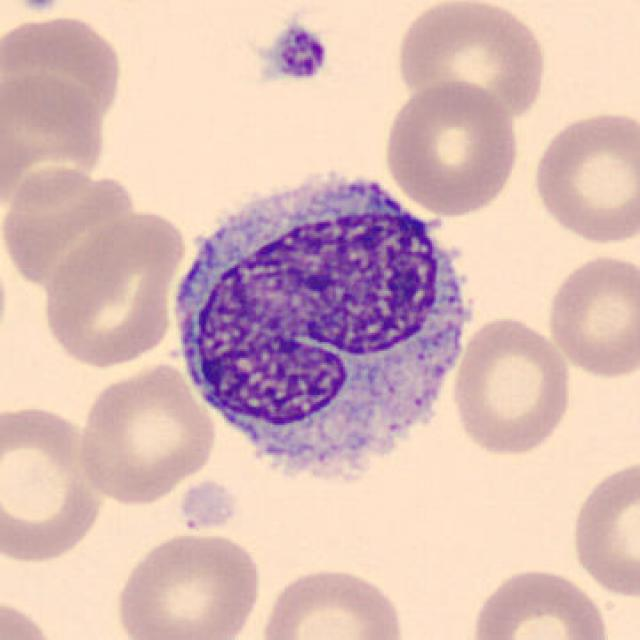Monocyte: (162, 153, 482, 501)
Platelets: (261, 21, 331, 85), (14, 0, 64, 16)
RBC: (39, 205, 190, 370), (74, 360, 218, 506), (380, 75, 522, 218), (393, 0, 551, 123), (446, 312, 576, 458), (0, 400, 107, 566), (110, 529, 263, 640), (0, 67, 114, 215), (528, 105, 638, 248), (0, 11, 128, 132), (542, 250, 638, 381), (256, 562, 409, 640), (466, 564, 613, 640), (567, 455, 640, 601), (0, 594, 62, 640)
